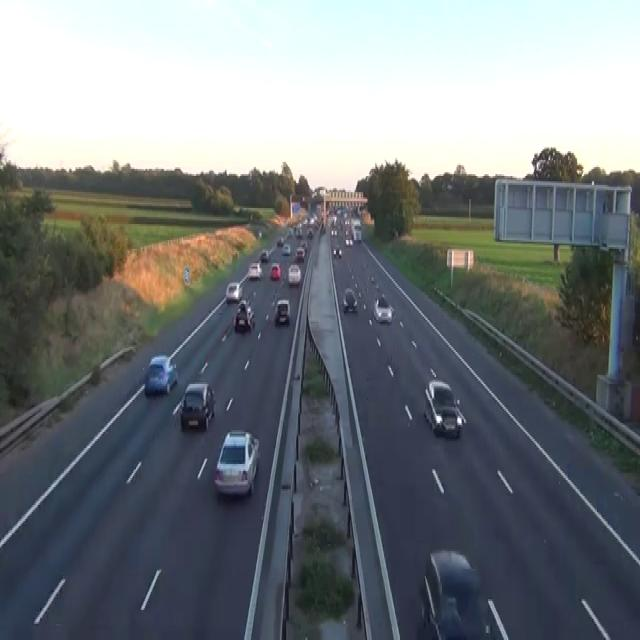Car: (420, 548, 509, 638), (213, 428, 259, 496), (423, 379, 466, 437), (180, 380, 215, 430), (144, 354, 177, 394), (233, 298, 254, 330), (373, 295, 393, 324), (275, 298, 290, 324), (342, 288, 357, 313), (225, 281, 242, 302), (287, 263, 301, 285), (247, 261, 262, 279), (270, 261, 281, 279), (296, 246, 305, 262), (333, 245, 342, 258), (353, 228, 361, 242), (260, 249, 269, 261), (282, 242, 291, 254), (294, 226, 302, 238), (344, 235, 353, 245), (300, 240, 307, 251), (306, 228, 313, 238), (286, 228, 293, 238), (277, 237, 284, 246), (331, 228, 337, 236), (300, 196, 305, 204), (370, 274, 374, 282), (258, 230, 262, 237)
